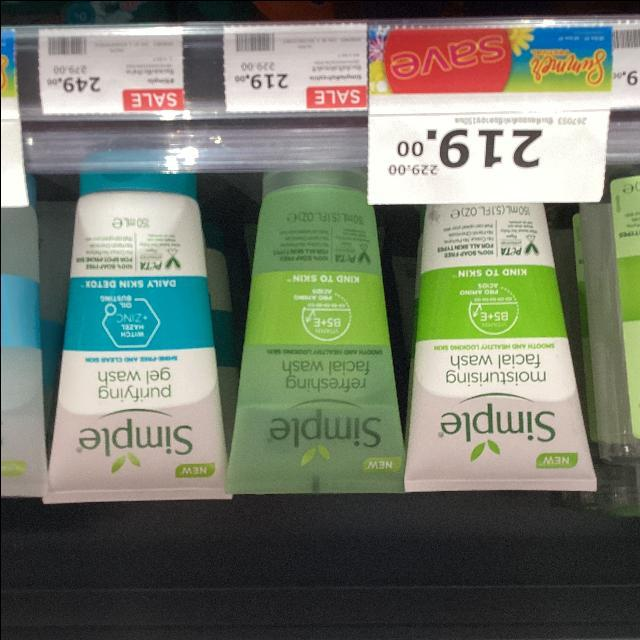Squeeze Tube: (38, 143, 640, 540), (35, 155, 230, 512), (402, 177, 614, 490), (224, 166, 419, 494)
